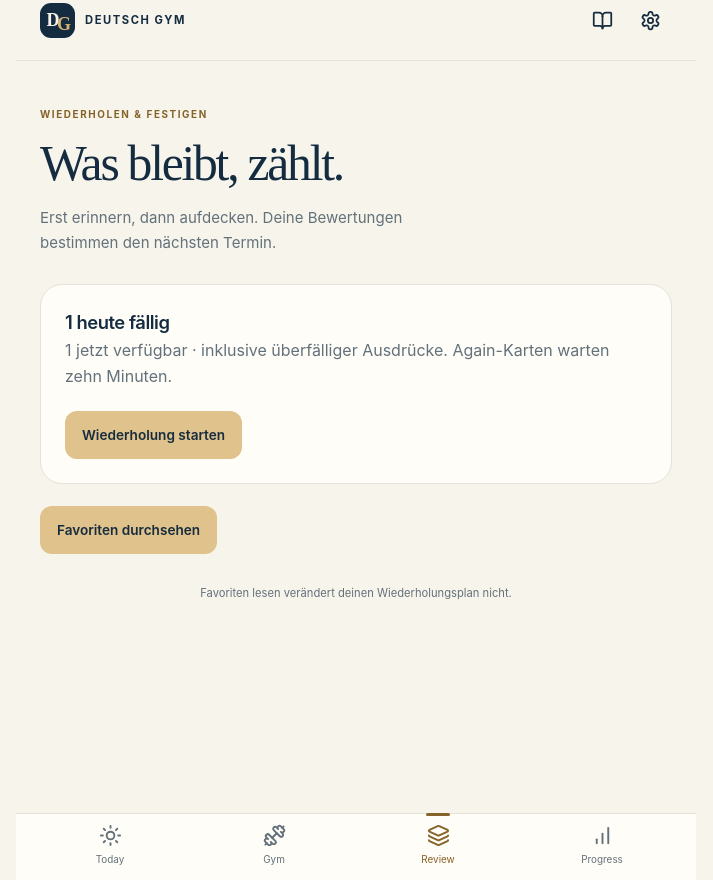
Test: completes a due review through the UI and records a real review session
Click the button "Wiederholung starten".
click(154, 435)  # box [65,411,242,459]
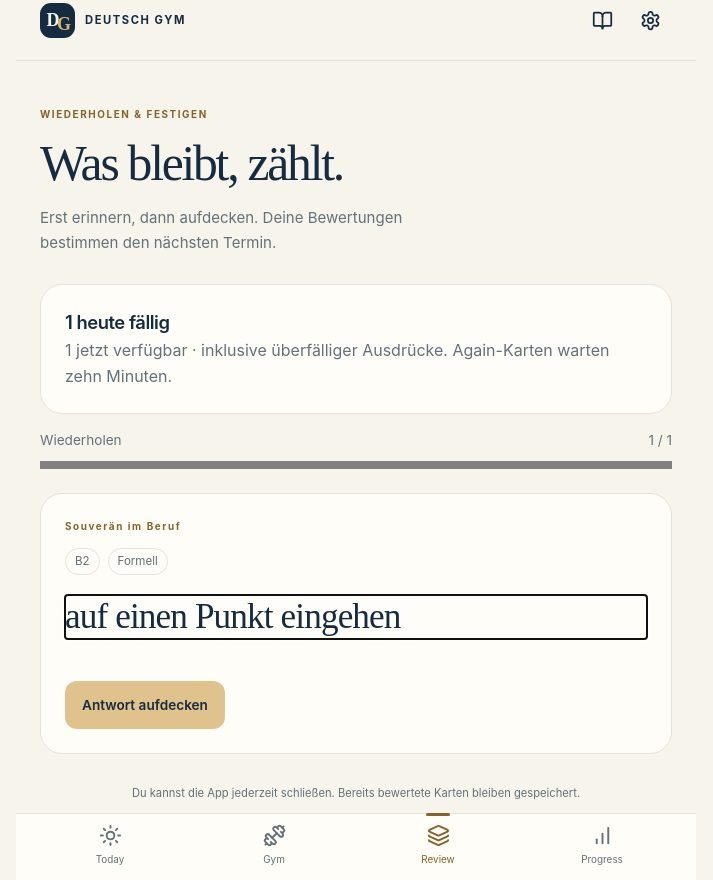
Click the button "Antwort aufdecken".
click(145, 705)  # box [65,681,225,729]
(page scrolled)
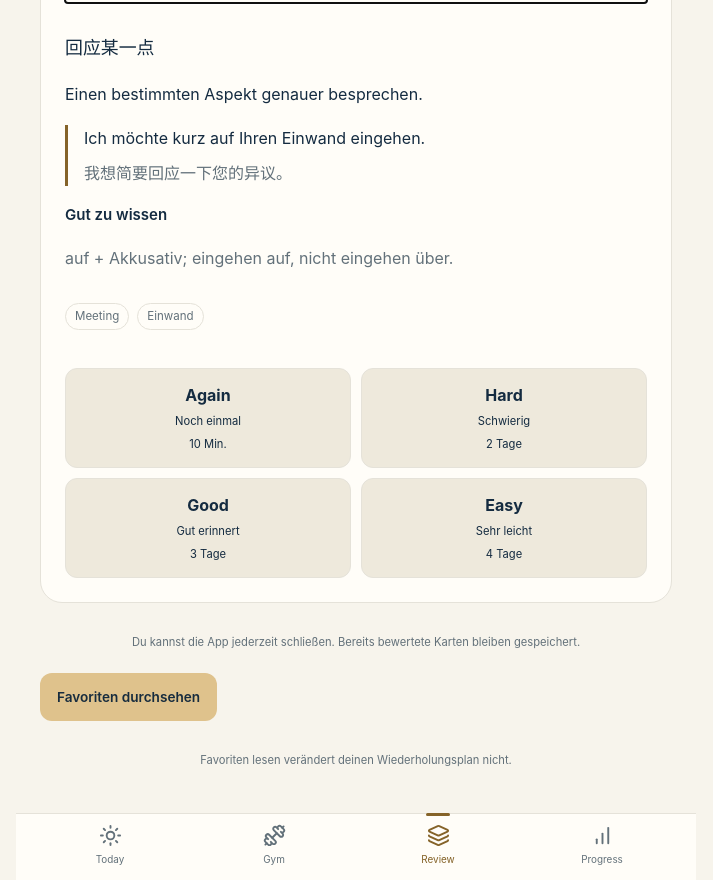
Click the button "Easy Sehr leicht 4 Tage".
click(504, 528)  # box [361,478,647,578]
(page scrolled)
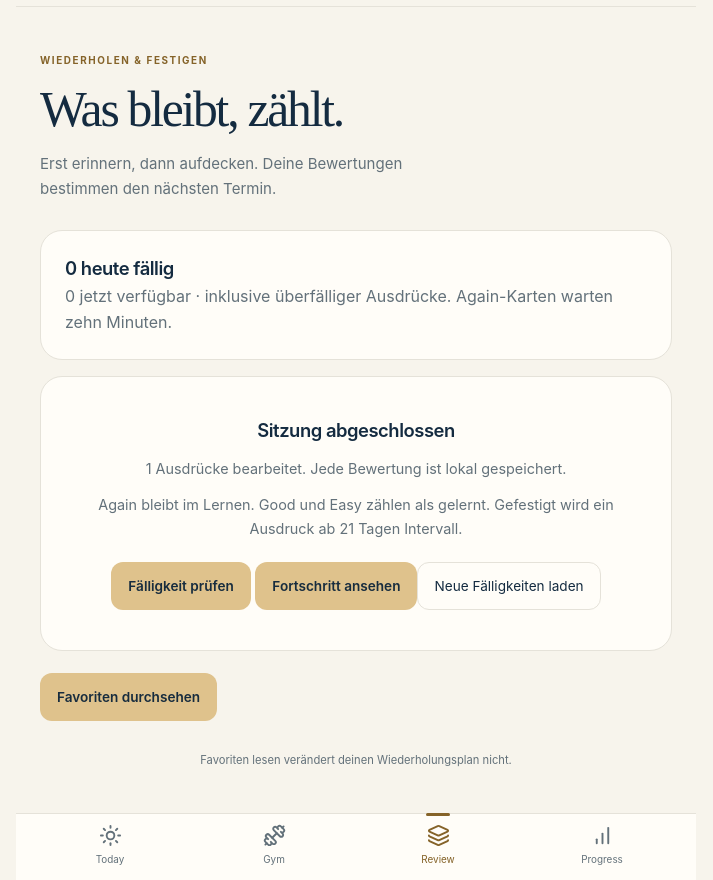
Check: the heading "Sitzung abgeschlossen" is shown, box [257,419,455,441]
